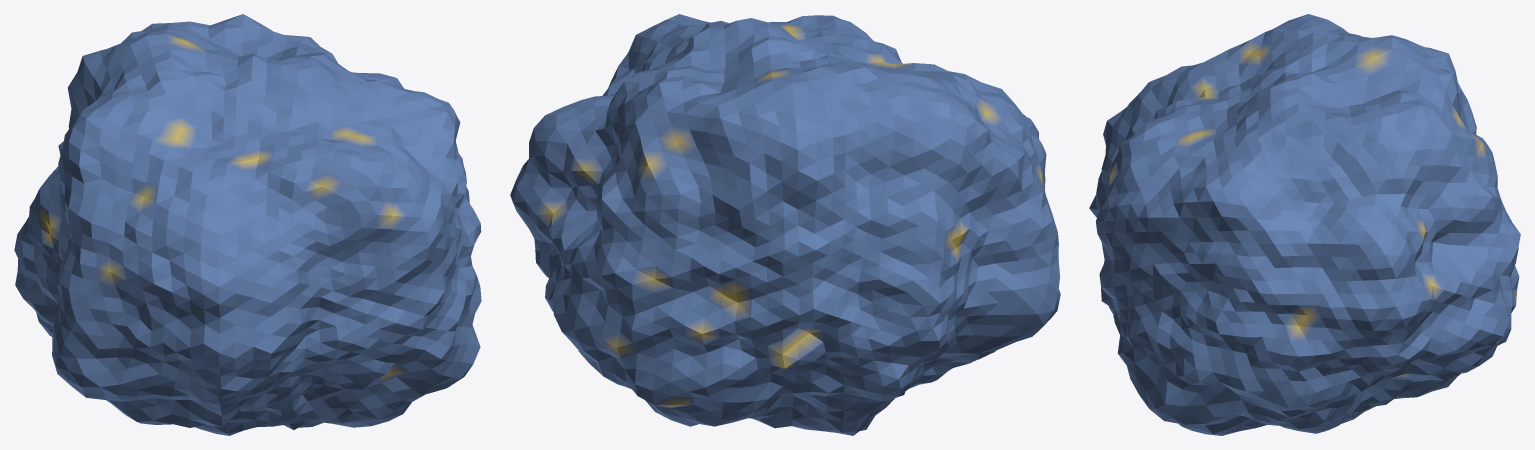
The model's file is lapis-lazuli.glb.
The picture shows the model from 3 angles, left to right: view 1: azimuth 30°, elevation 25°; view 2: azimuth 150°, elevation 25°; view 3: azimuth 270°, elevation 25°; orthographic projection. The views are drawn at different scales.
Parts seen in each view (by area): view 1: geometry_0; view 2: geometry_0; view 3: geometry_0.
Boxes of the visible parts, box(x1,y1,x2,y2) form: geometry_0: box(14, 14, 481, 435); geometry_0: box(510, 14, 1060, 435); geometry_0: box(1089, 14, 1520, 435).
Size of the model in its own units: 0.105 by 0.081 by 0.0939.
